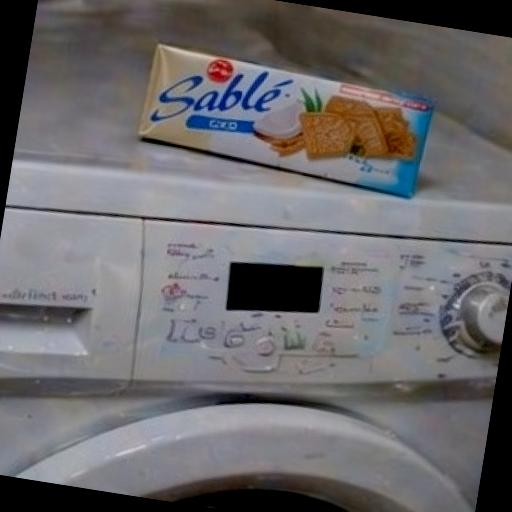sable: (59, 0, 494, 294)
